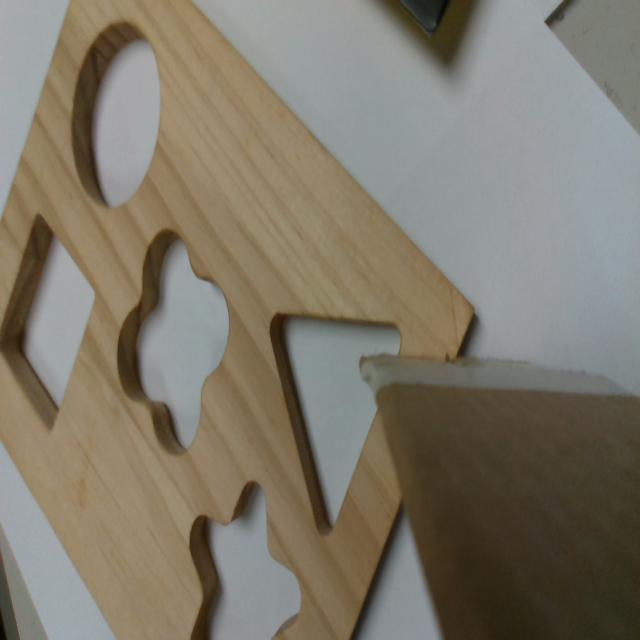circle: (72, 23, 161, 205)
flower: (113, 235, 229, 451)
square: (3, 208, 96, 430)
star: (190, 481, 302, 638)
triangle: (267, 311, 405, 537)
